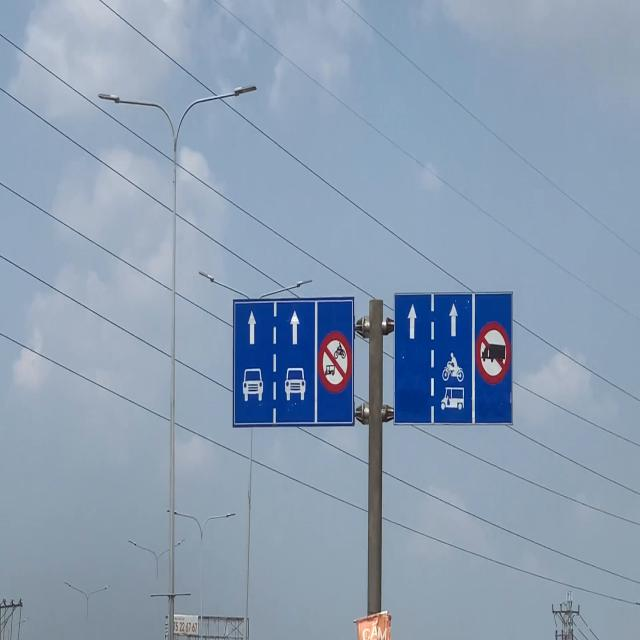Cam con lai: (473, 320, 512, 383), (316, 331, 352, 393)
